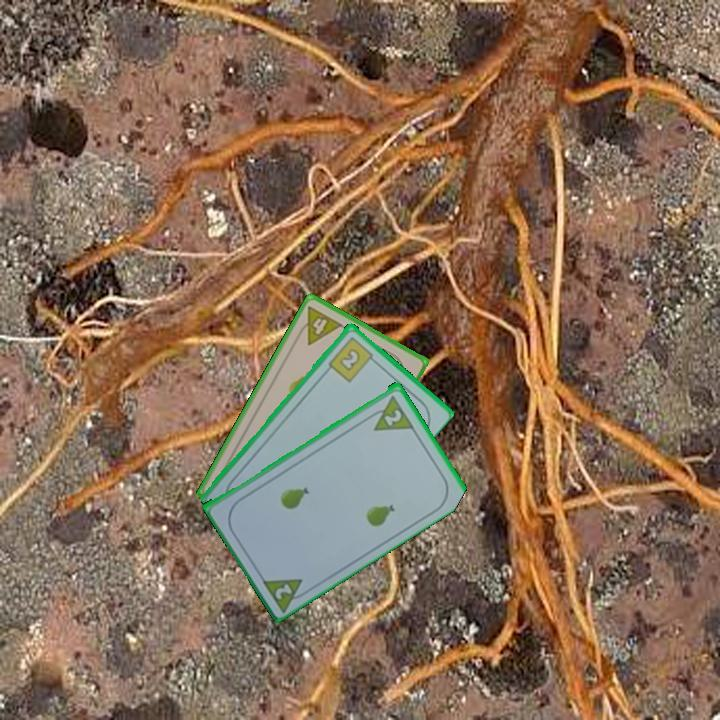2b: (325, 333, 379, 385)
2p: (380, 405, 405, 429), (271, 579, 295, 602)
4p: (292, 302, 345, 348)
